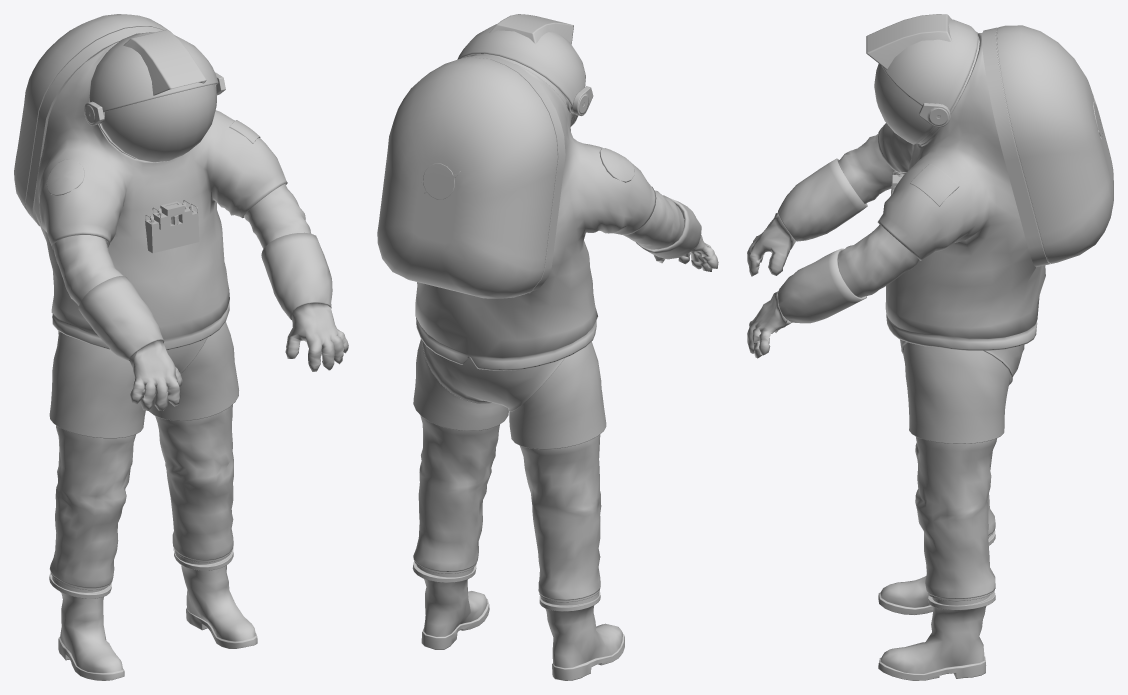
File: suit.glb
3 renders of one model, left to right at view 1: azimuth 30°, elevation 25°; view 2: azimuth 150°, elevation 25°; view 3: azimuth 270°, elevation 25°, orthographic.
Visible parts, largest first — view 1: Z2; view 2: Z2; view 3: Z2.
Part boxes in pixels (box(x1,y1,x2,y2)): Z2: box(14, 14, 348, 680); Z2: box(377, 14, 718, 680); Z2: box(747, 14, 1113, 680).
Size of the model in its own units: 0.7944 by 1.94 by 1.04.
Materials: 1 (1 with a texture image).
